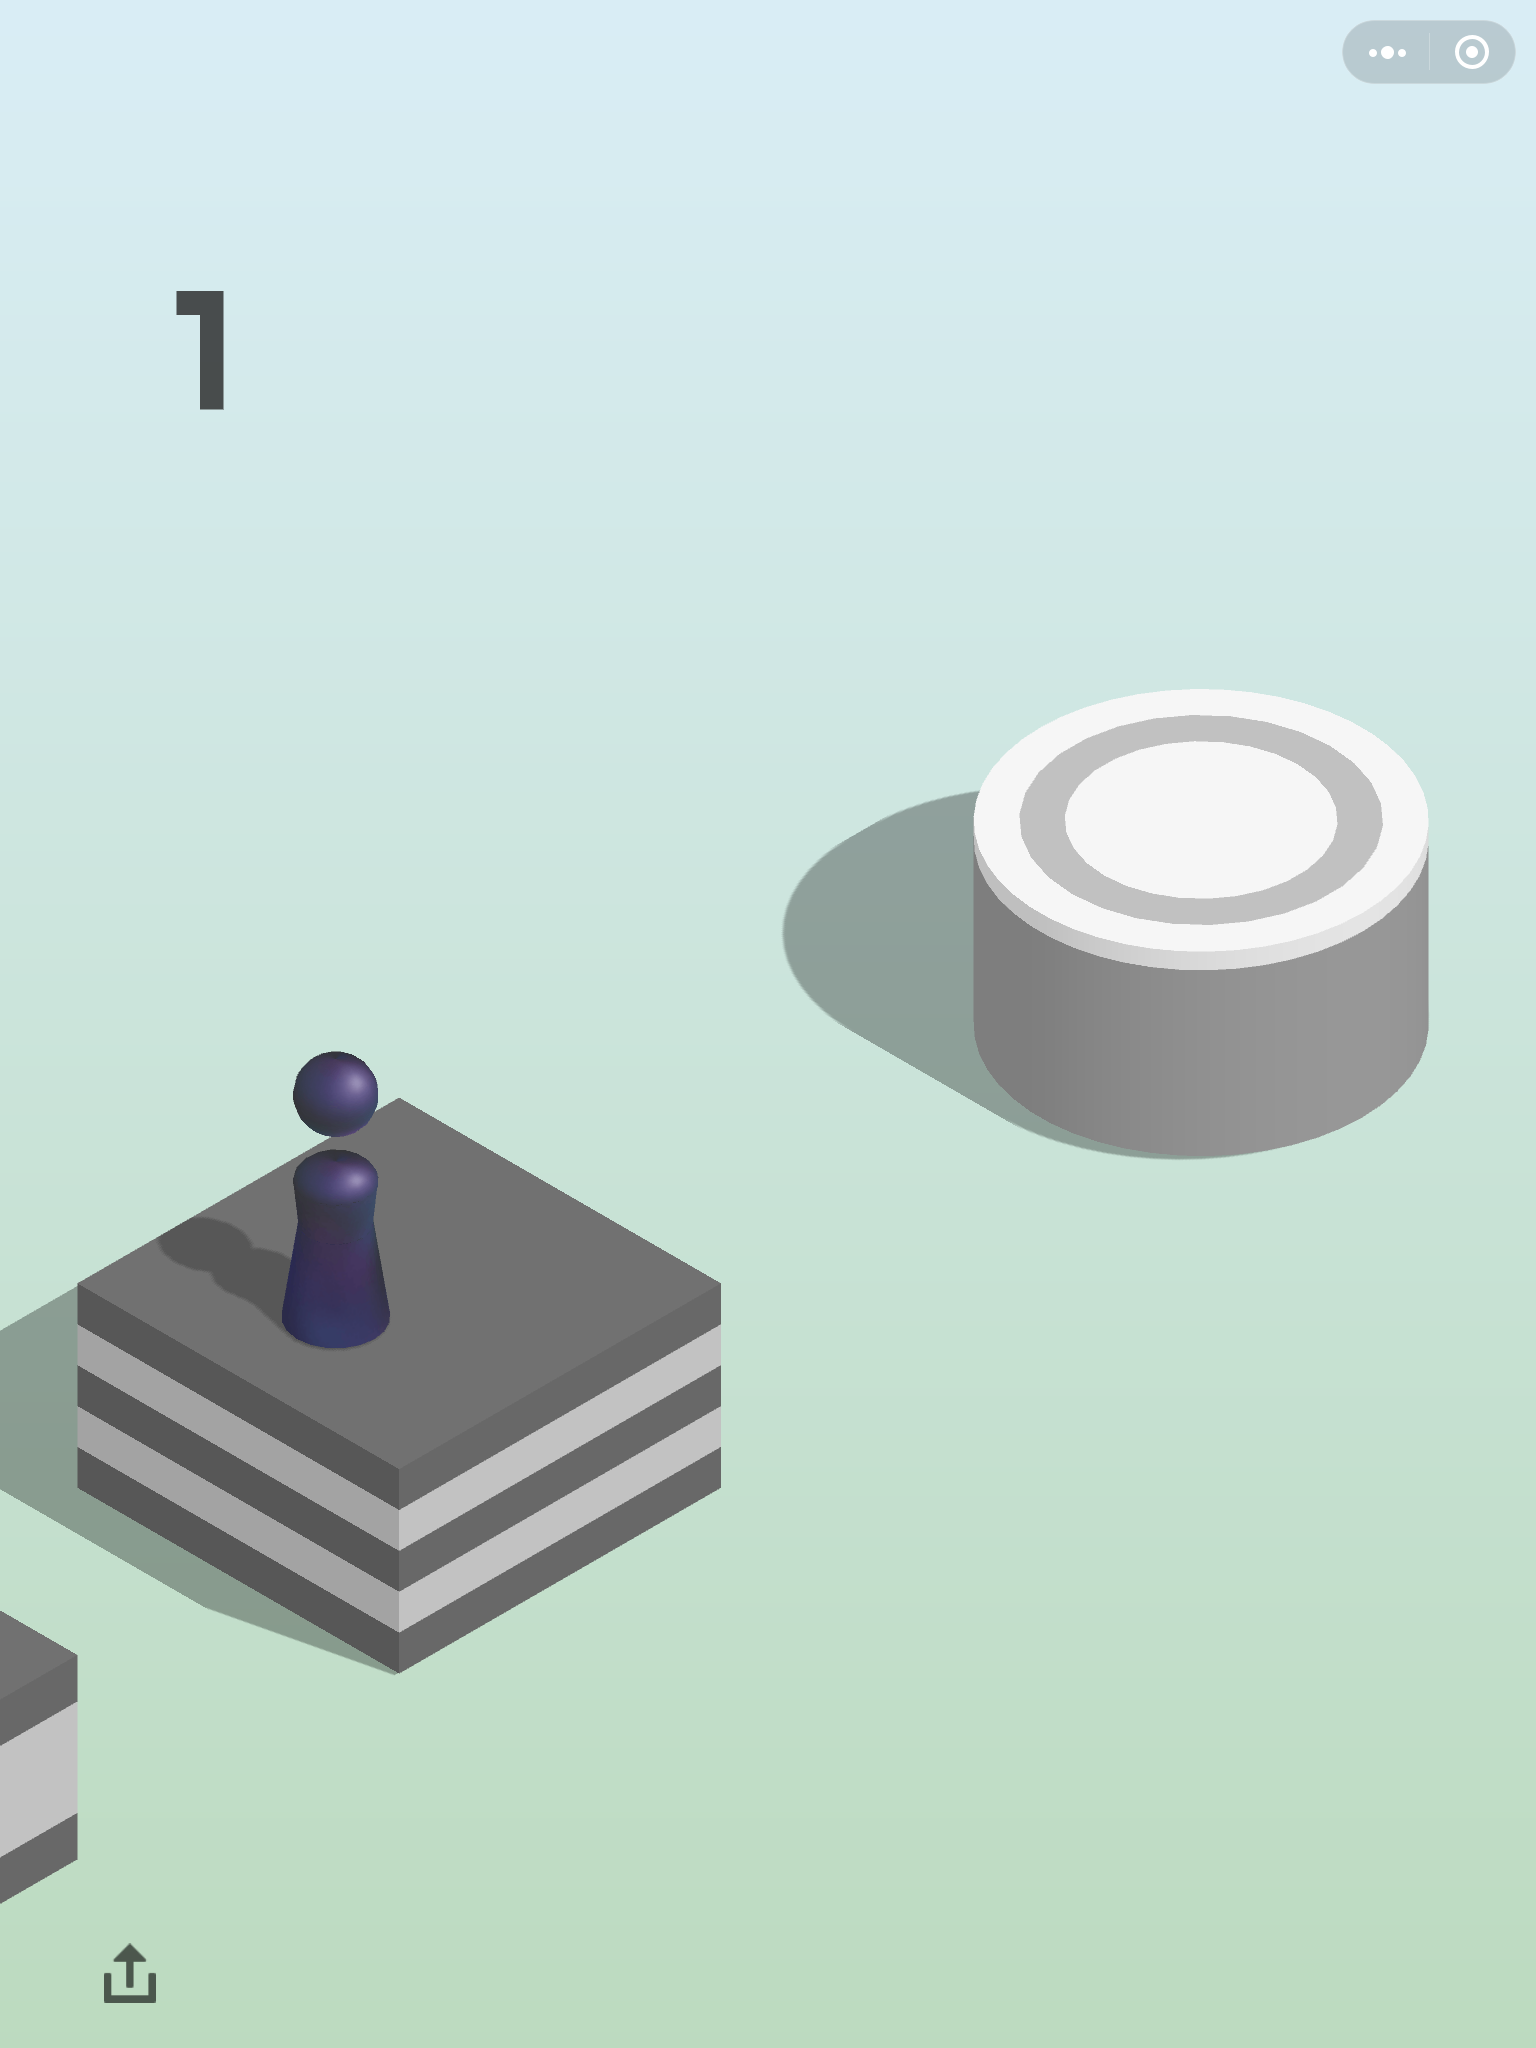c: (966, 681, 1436, 1164)
f: (74, 1097, 729, 1680)
r: (274, 1048, 400, 1356)
